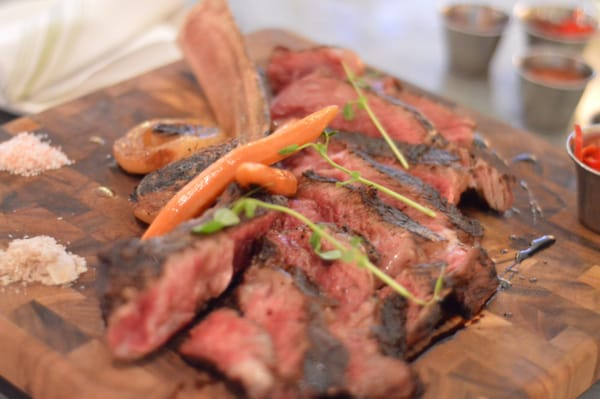pizza: (487, 2, 600, 133)
sushi: (437, 2, 510, 76)
